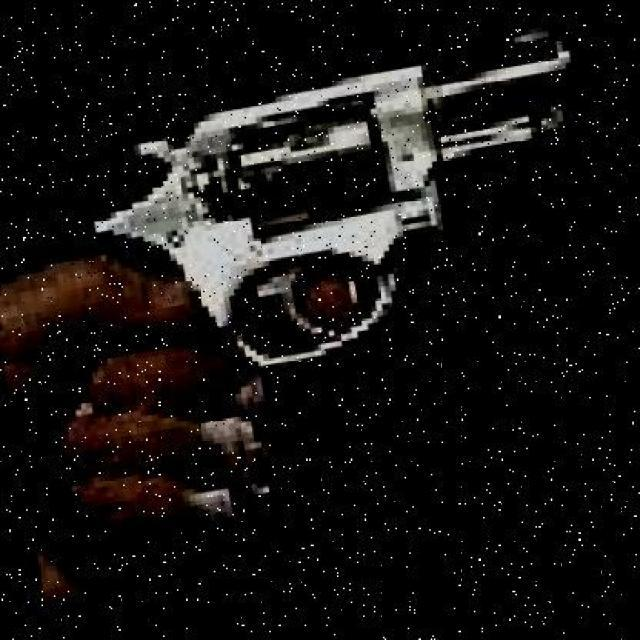rifle: (73, 35, 617, 515)
